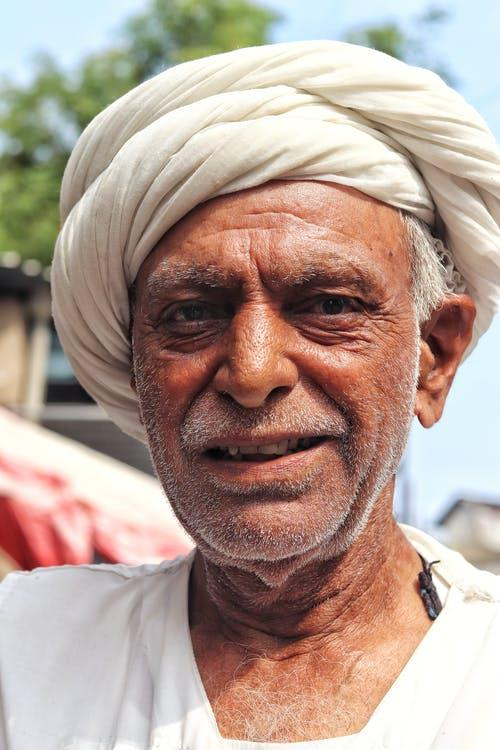Wrinkles: (242, 211, 345, 233), (196, 226, 259, 238), (257, 258, 273, 292), (251, 235, 253, 261)
